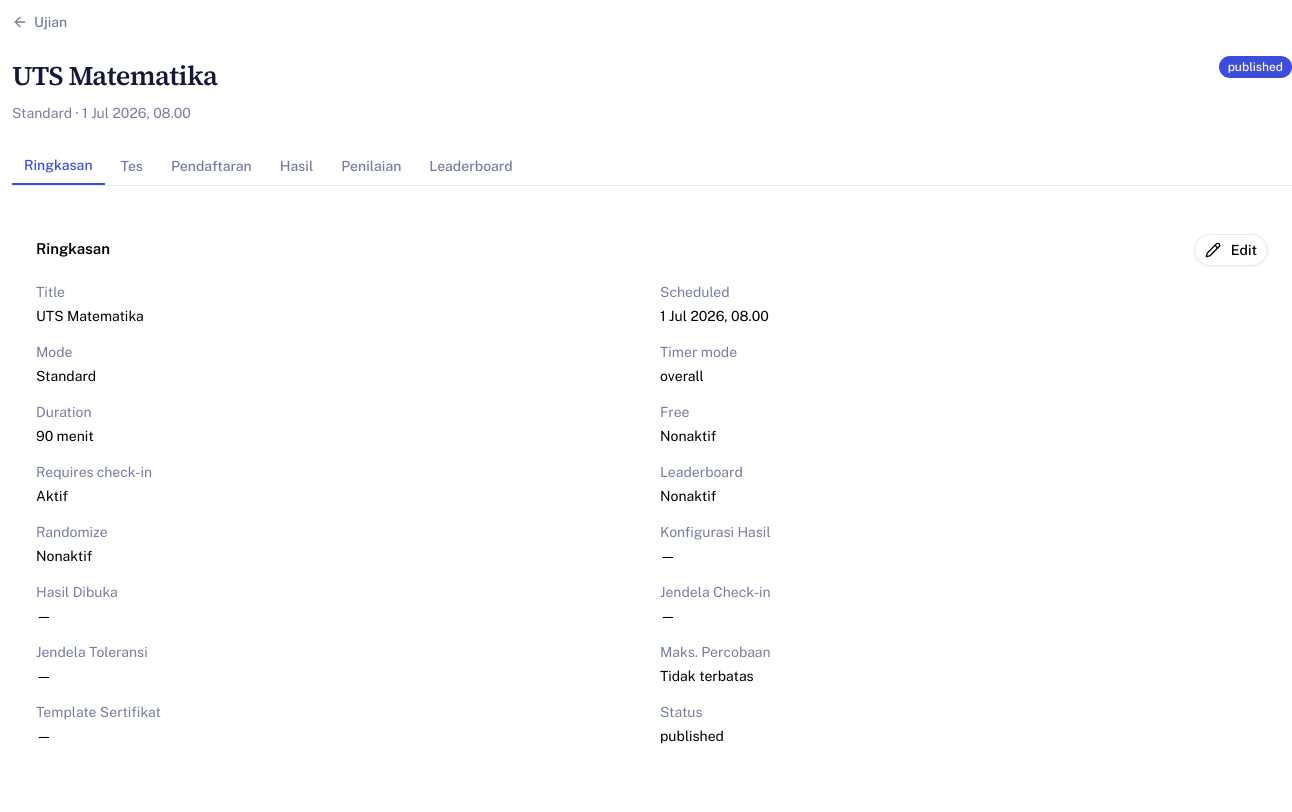
Test case: ExamPackageDetailPage — grading tab › renders the list of sessions needing grading
Click the button "Penilaian".
click(371, 166)  # box [329,146,413,184]
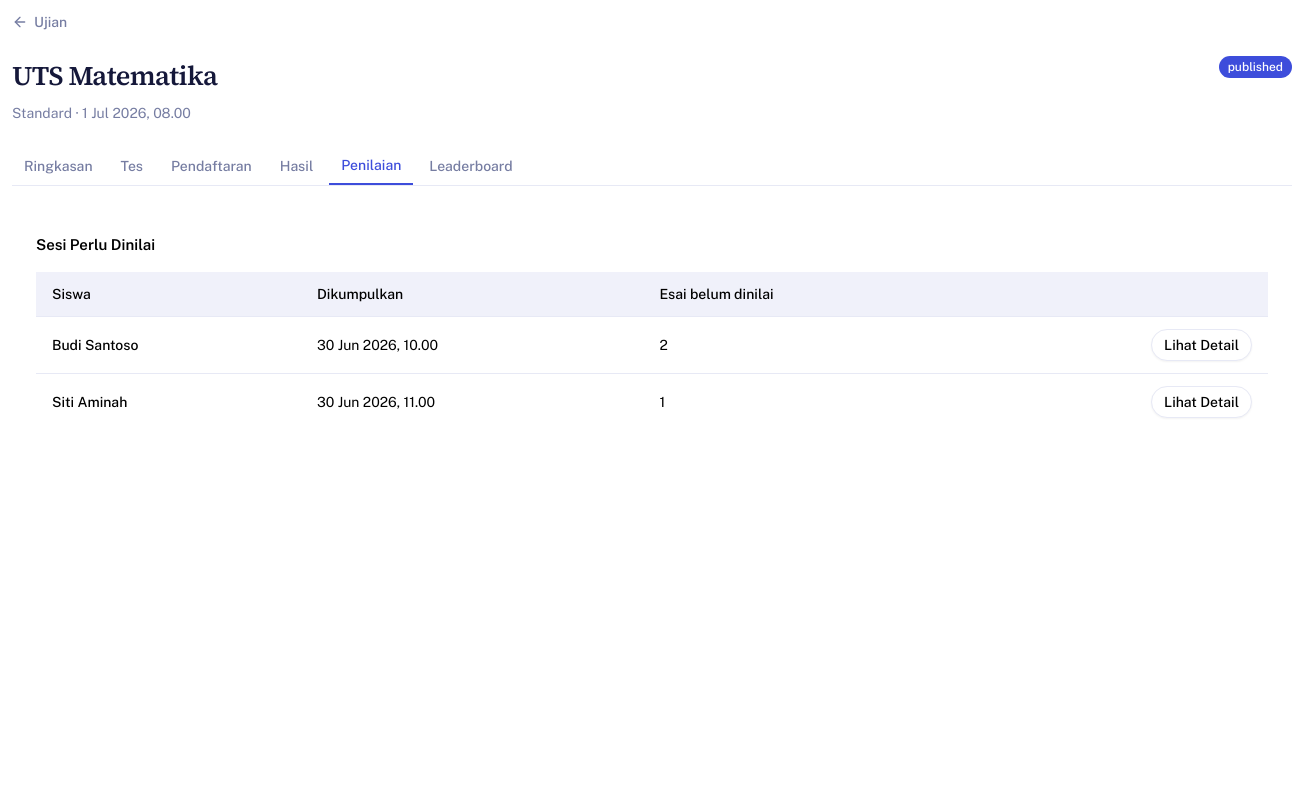
Result: the text "Budi Santoso" is shown at [36,316,301,374]
Result: the text "Siti Aminah" is shown at [36,374,301,430]
Result: the text "2" is shown at [643,316,970,374]
